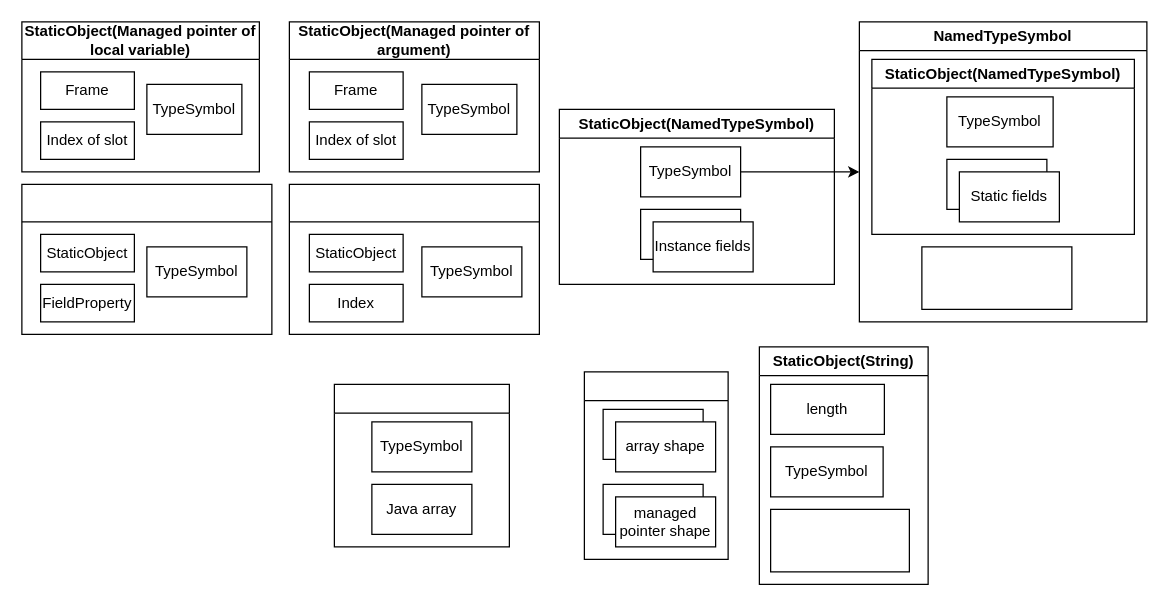
This 1169x606 diagram has some shape labels left out. The box of each missing label's shape, as (x1, y1, x2, y2) in pixels:
Context: (583, 371, 728, 559)
static and instance shapes: (921, 246, 1072, 309)
StaticObject(Array of char): (769, 508, 909, 572)
StaticObject(Array): (333, 383, 509, 547)
StaticObject(Managed pointer of array): (288, 183, 539, 334)
StaticObject(Managed pointer of field): (21, 183, 272, 334)
